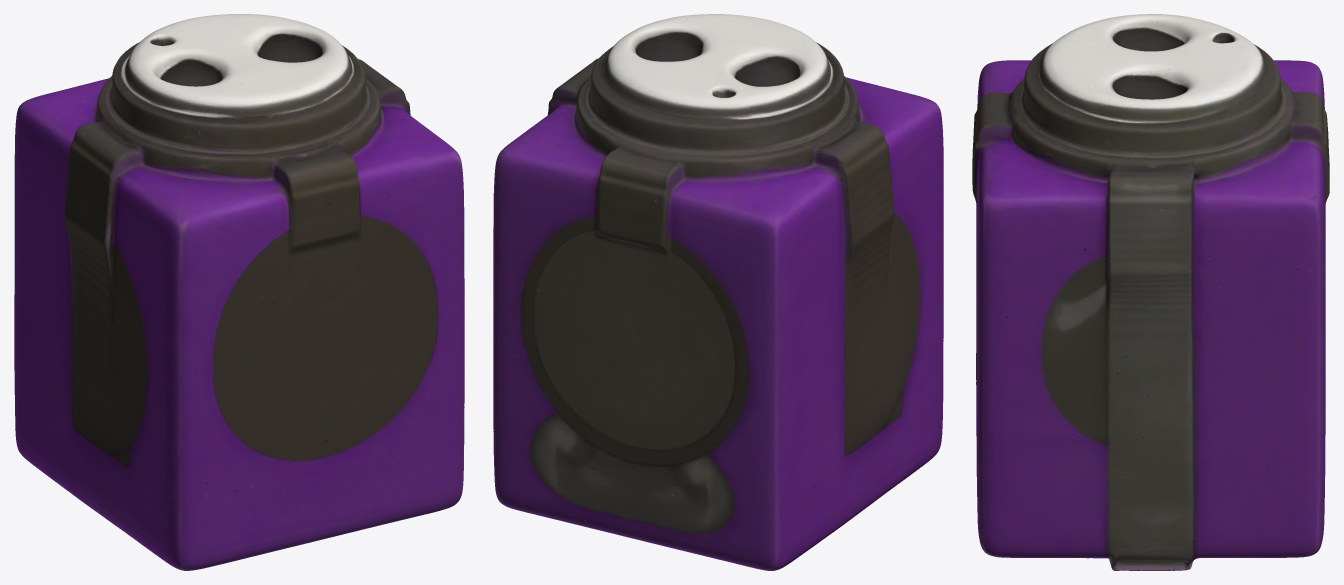
Rendered from marioo.glb.
3 renders of one model, left to right at view 1: azimuth 30°, elevation 25°; view 2: azimuth 150°, elevation 25°; view 3: azimuth 270°, elevation 25°, orthographic.
Size of the model in its own units: 1.45 by 2 by 1.42.
1 material, 1 textured.
